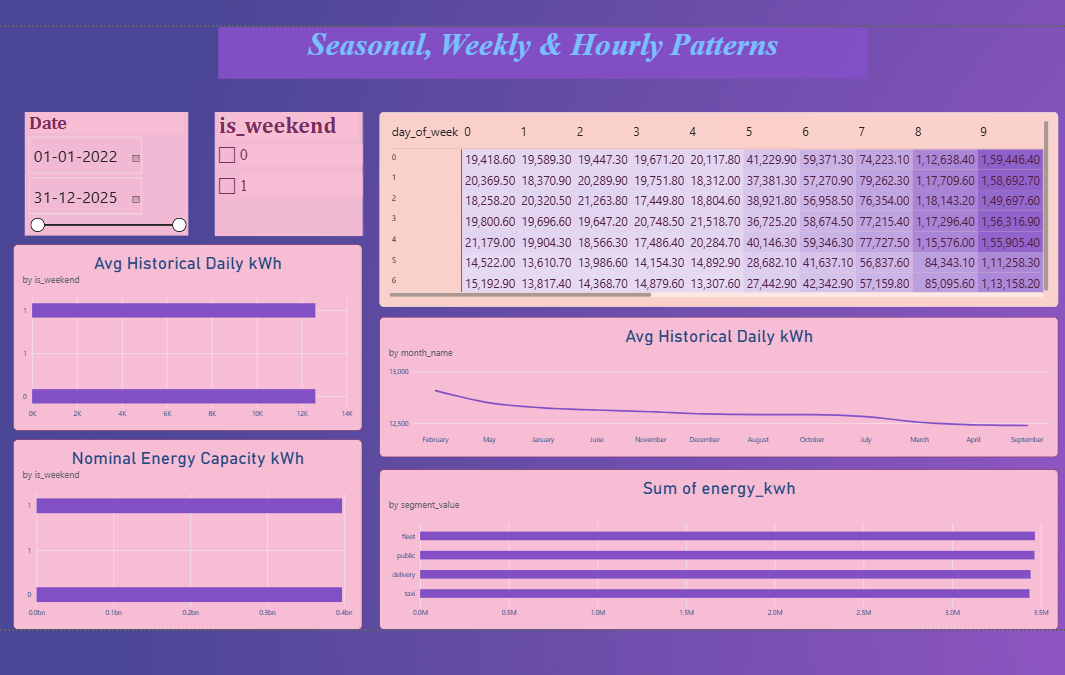

What the dashboard file says about the page in this screenshot:
{"tool":"powerbi","page":{"name":"Page 2","canvas":[1920,1080],"ordinal":1},"visuals":[{"type":"textbox","box":[397.3,0,1165,92.6],"z":0},{"type":"slicer","fields":{"Values":["dim_date.date"]},"box":[49.3,152.4,293.6,221.8],"z":1000},{"type":"slicer","fields":{"Values":["dim_date.is_weekend"]},"box":[389.9,152.4,265.5,222.3],"z":2000},{"type":"pivotTable","fields":{"Columns":["fact_hourly_profile.hour"],"Rows":["fact_hourly_profile.day_of_week"],"Values":["Sum(fact_hourly_profile.energy_kwh)"]},"box":[685.7,152.4,1216.8,349.6],"z":3000},{"type":"clusteredBarChart","fields":{"Category":["fact_hourly_profile.is_weekend"],"Y":["daily_forecast_best_model_365d.Avg Historical Daily kWh"]},"box":[29.1,389.9,625.2,333.9],"z":4000},{"type":"clusteredBarChart","fields":{"Category":["fact_hourly_profile.is_weekend"],"Y":["daily_forecast_best_model_365d.Nominal Energy Capacity kWh"]},"box":[29.1,739.5,625.2,340.6],"z":5000},{"type":"lineChart","fields":{"Category":["dim_date.month_name"],"Y":["daily_forecast_best_model_365d.Avg Historical Daily kWh"]},"box":[685.7,519.9,1216.8,251],"z":6000},{"type":"clusteredBarChart","fields":{"Category":["fact_historical_segmented.segment_value"],"Y":["Sum(fact_historical_segmented.energy_kwh)"]},"box":[685.7,793.3,1216.8,286.8],"z":7000}]}

Visuals, with their boxes on the page's 1920x1080 design canvas (x1, y1, x2, y2). These are canvas units, not pixel positions in the 1065x675 screenshot, which may show the page scaled, cropped or inside an application window:
textbox: <bbox>397, 0, 1562, 93</bbox>
slicer - dim_date.date: <bbox>49, 152, 343, 374</bbox>
slicer - dim_date.is_weekend: <bbox>390, 152, 655, 375</bbox>
pivotTable - fact_hourly_profile.hour x fact_hourly_profile.day_of_week: <bbox>686, 152, 1902, 502</bbox>
clusteredBarChart - fact_hourly_profile.is_weekend x daily_forecast_best_model_365d.Avg Historical Daily kWh: <bbox>29, 390, 654, 724</bbox>
clusteredBarChart - fact_hourly_profile.is_weekend x daily_forecast_best_model_365d.Nominal Energy Capacity kWh: <bbox>29, 740, 654, 1080</bbox>
lineChart - dim_date.month_name x daily_forecast_best_model_365d.Avg Historical Daily kWh: <bbox>686, 520, 1902, 771</bbox>
clusteredBarChart - fact_historical_segmented.segment_value x Sum(fact_historical_segmented.energy_kwh): <bbox>686, 793, 1902, 1080</bbox>
